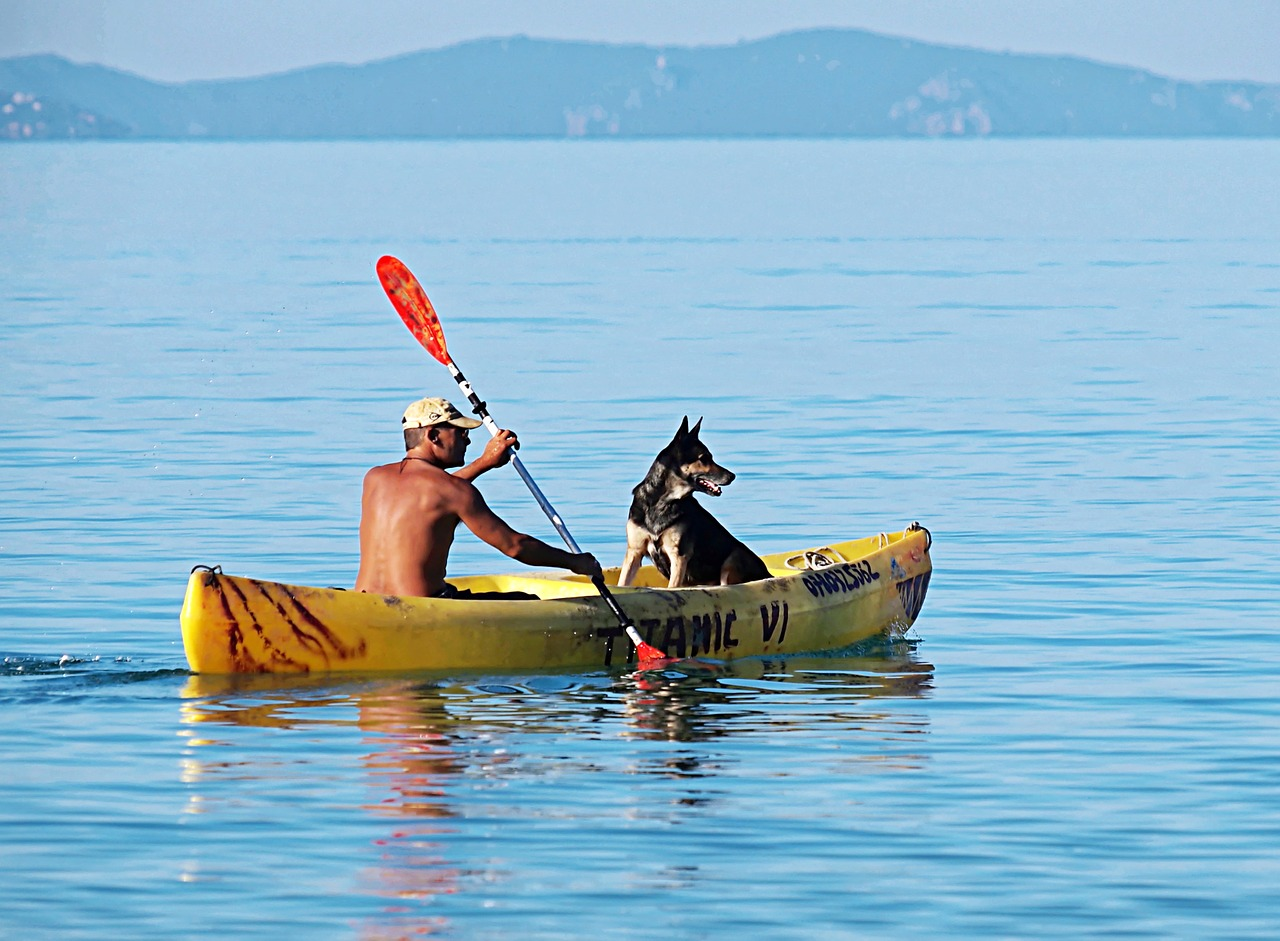kayak: (171, 249, 953, 709)
